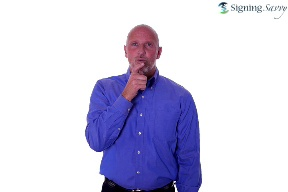who: (118, 59, 159, 97)
